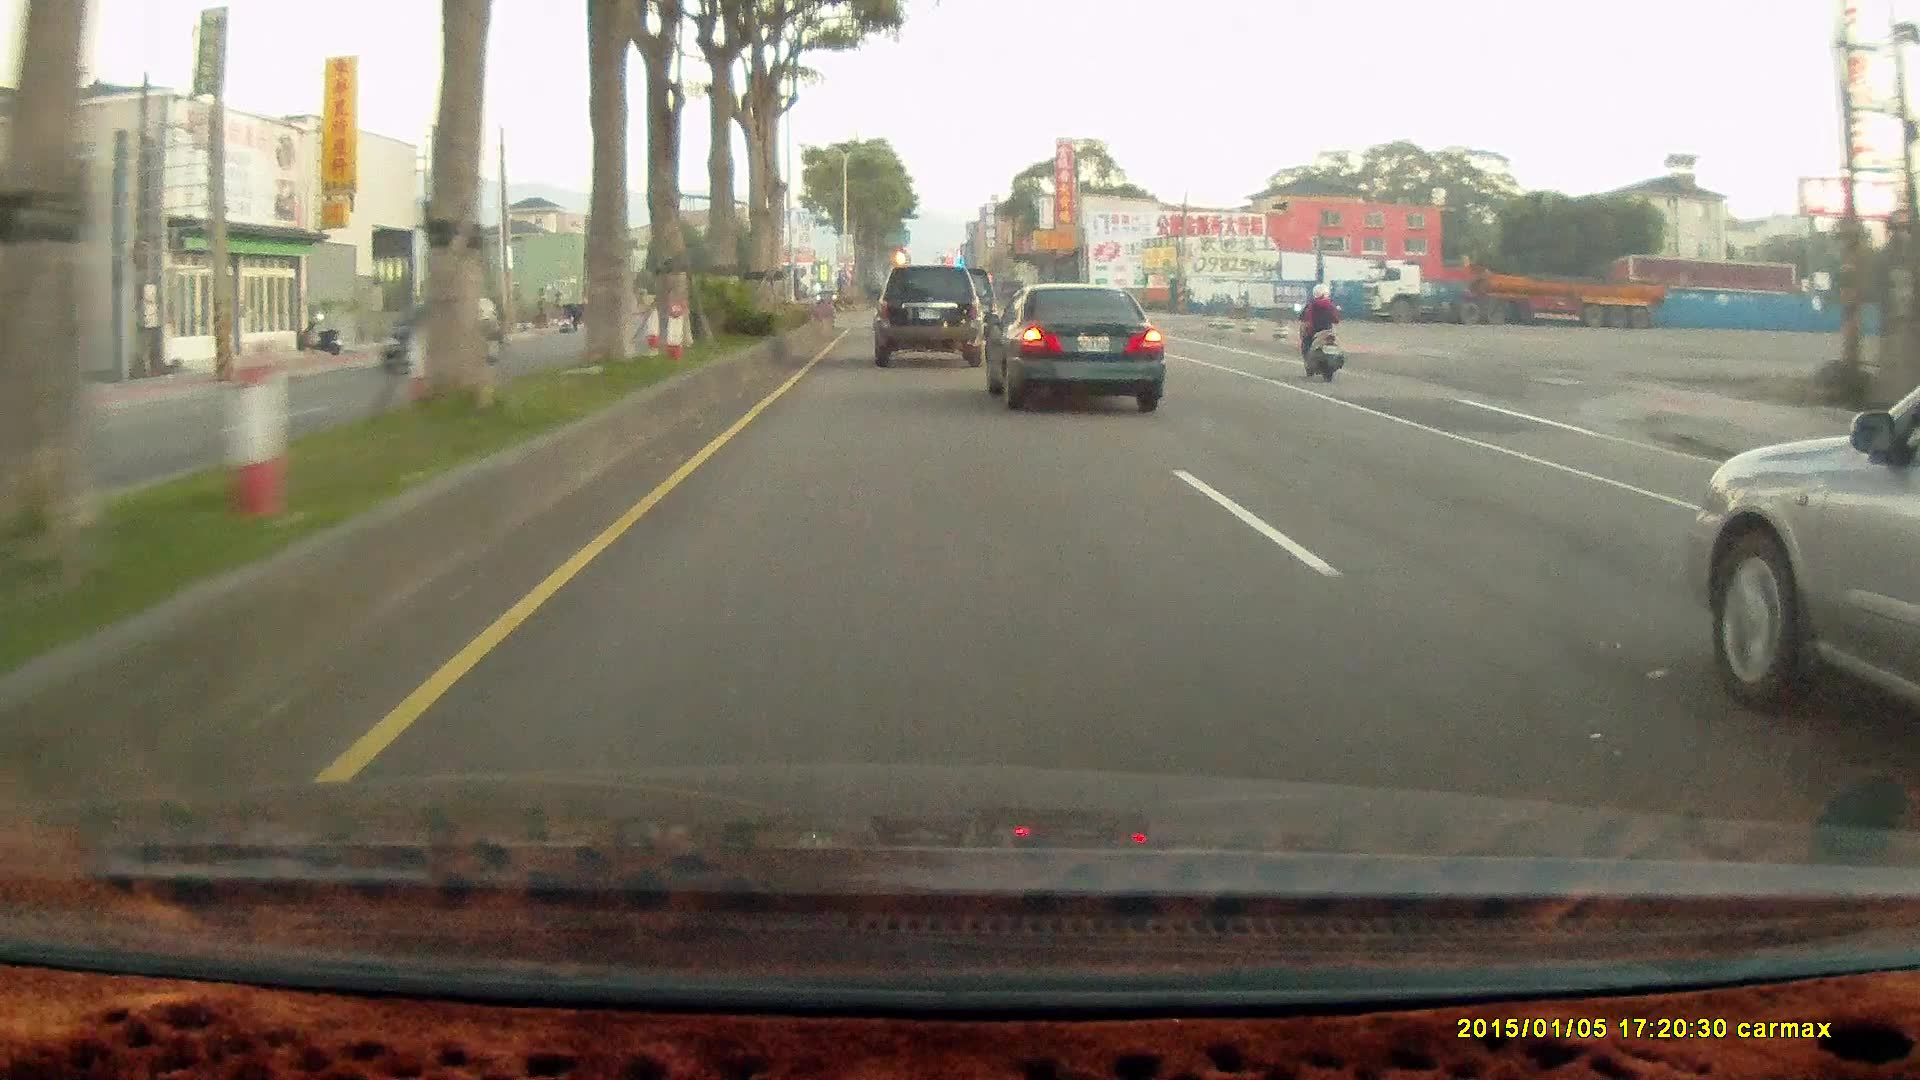pedestrian: (557, 300, 582, 332)
rider: (1286, 275, 1355, 390), (1292, 282, 1343, 382)
vehicle: (1688, 378, 1920, 728), (980, 281, 1164, 410), (988, 284, 1167, 412), (1361, 257, 1663, 329), (873, 263, 988, 367), (871, 263, 983, 366), (379, 297, 505, 376), (1, 308, 90, 387)
